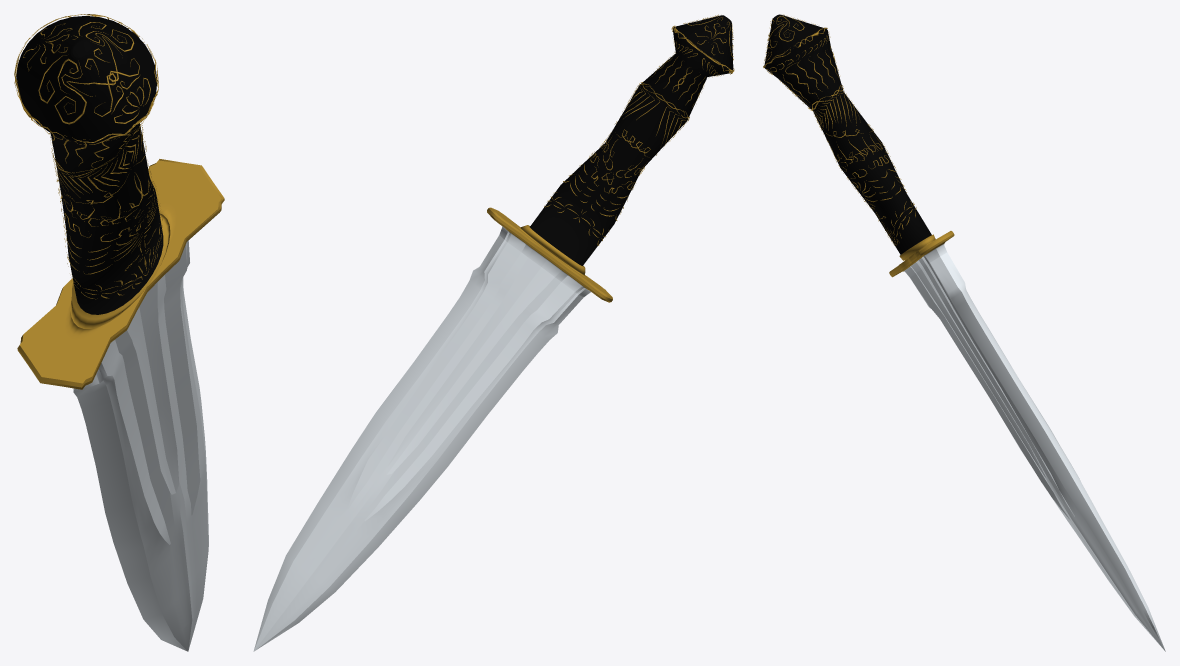
Rendered from Dagger.fbx.
3 views of the same model, side by side, from view 1: azimuth 30°, elevation 25°; view 2: azimuth 150°, elevation 25°; view 3: azimuth 270°, elevation 25° (orthographic). The views are drawn at different scales.
Visible parts, largest first — view 1: Dagger; view 2: Dagger; view 3: Dagger.
Boxes of the visible parts, bbox=[...] form: Dagger: bbox=[14, 14, 224, 651]; Dagger: bbox=[253, 14, 734, 651]; Dagger: bbox=[763, 14, 1165, 651].
Bounding box in the file's own units: 37.06 × 68.7 × 48.49.
